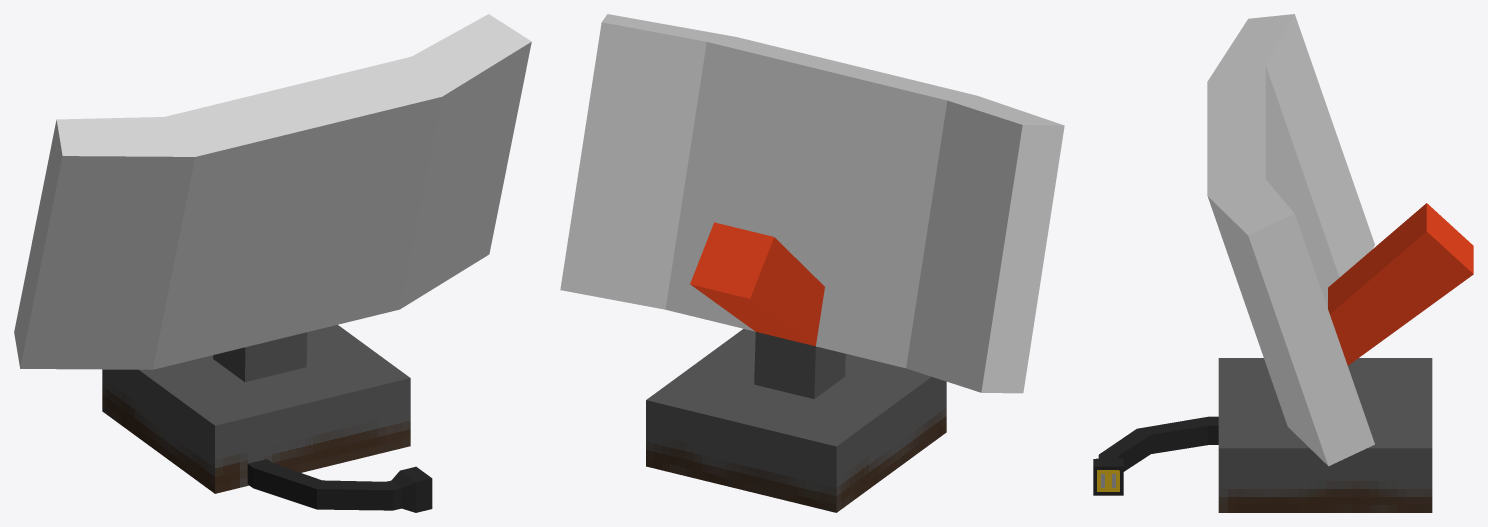
The model's file is radar.gltf.
3 renders of one model, left to right at view 1: azimuth 30°, elevation 25°; view 2: azimuth 150°, elevation 25°; view 3: azimuth 270°, elevation 25°, orthographic. The views are drawn at different scales.
Parts seen in each view (by area): view 1: Dish, cuboid (×2); view 2: Dish, cuboid; view 3: Dish, cuboid (×2).
Boxes of the visible parts, x1,y1,x2,y2 form: Dish: (14, 14, 531, 381); cuboid (×2): (102, 324, 432, 512); Dish: (560, 14, 1064, 398); cuboid: (646, 329, 946, 512); Dish: (1207, 14, 1473, 466); cuboid (×2): (1093, 358, 1432, 512).
Bounding box in the file's own units: 0.45 × 0.3458 × 0.3338.
Materials: 1 (1 with a texture image).
